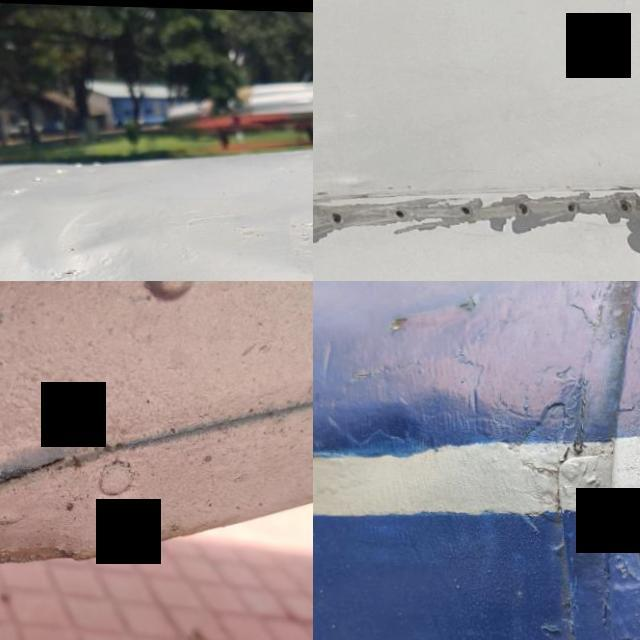Dent: (0, 176, 255, 281)
Missing_Fastener: (598, 485, 640, 610), (612, 198, 625, 210), (454, 204, 468, 215), (561, 201, 573, 212), (388, 208, 402, 216)
